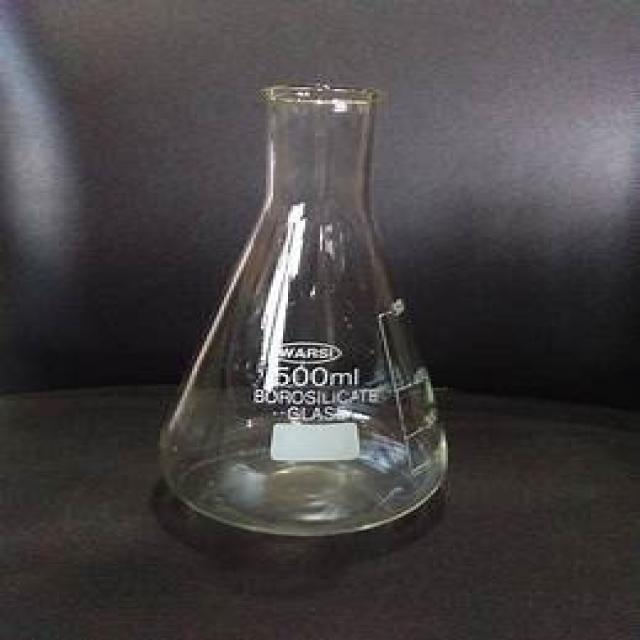Titrarion: (162, 70, 446, 525)
